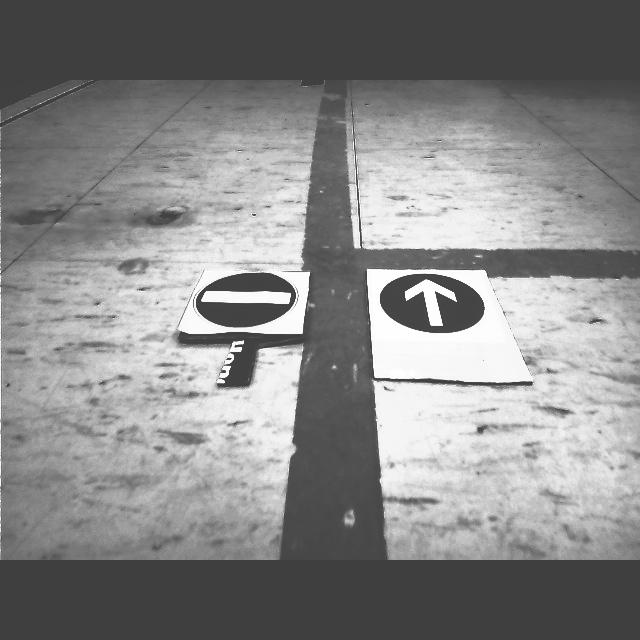GO FORWARD: (380, 273, 485, 334)
NO ENTRY: (197, 273, 297, 329)
